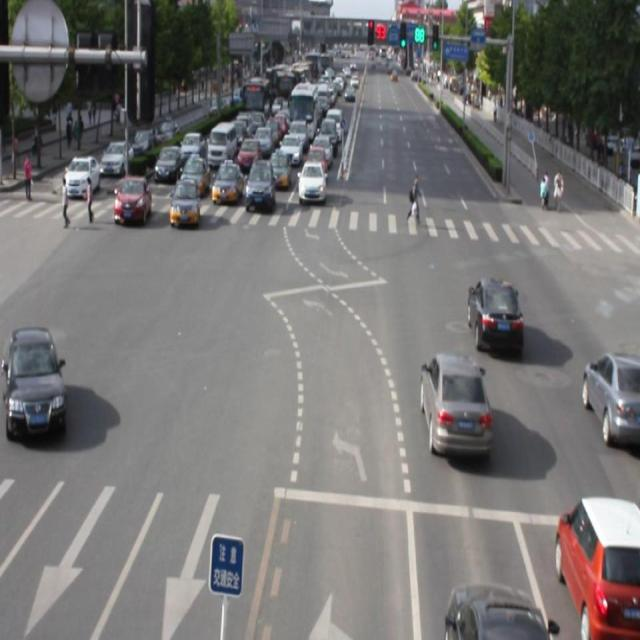car: (554, 493, 640, 640), (418, 350, 491, 455), (1, 327, 65, 441), (442, 579, 549, 640), (579, 350, 640, 443), (467, 275, 523, 354), (170, 177, 199, 227)
